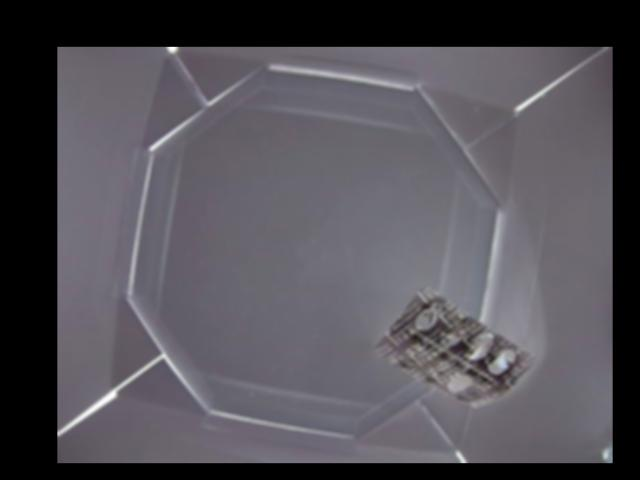Medicine: (377, 287, 531, 405)
